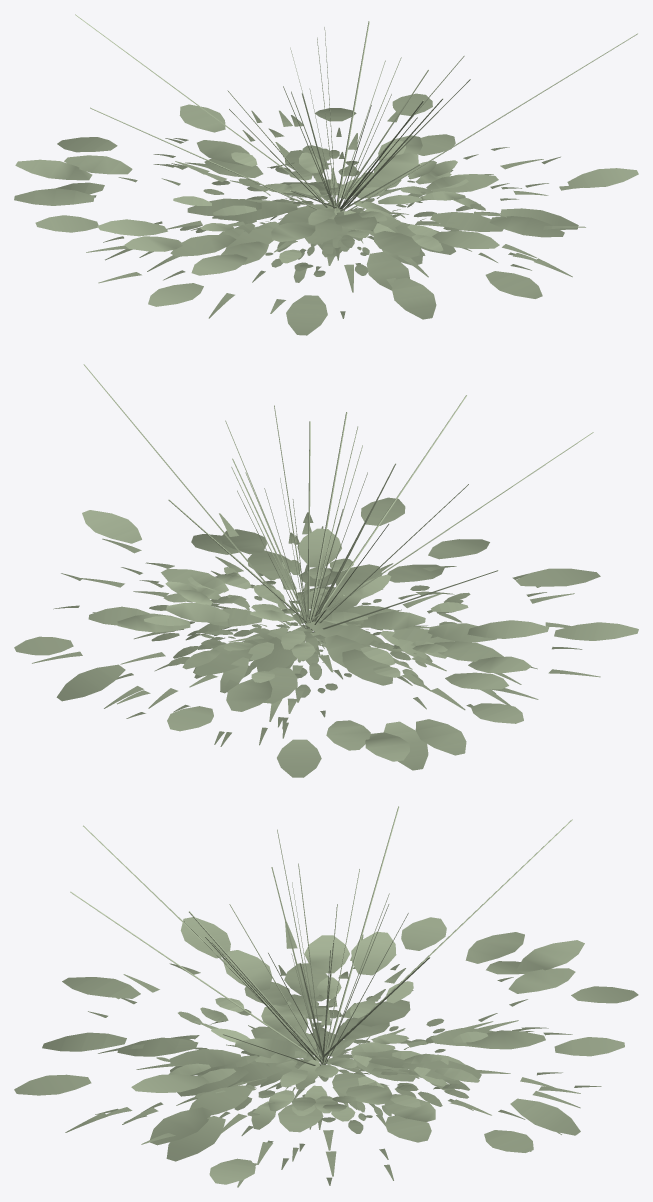
Rendered from herb_mat.glb.
The picture shows the model from 3 angles, top to bottom: view 1: azimuth 30°, elevation 25°; view 2: azimuth 150°, elevation 25°; view 3: azimuth 270°, elevation 25°; orthographic projection. The views are drawn at different scales.
Visible parts, largest first — view 1: v3_foliage, v4_foliage, v8_foliage, v6_foliage, v5_foliage, v2_foliage, v0_foliage, v1_foliage; view 2: v3_foliage, v4_foliage, v8_foliage, v6_foliage, v2_foliage, v5_foliage, v0_foliage, v1_foliage; view 3: v3_foliage, v4_foliage, v8_foliage, v6_foliage, v2_foliage, v5_foliage, v0_foliage.
Part boxes in pixels (left/top/right/bottom): v3_foliage: left=14, top=14, right=638, bottom=335; v4_foliage: left=173, top=55, right=485, bottom=263; v8_foliage: left=86, top=100, right=605, bottom=318; v6_foliage: left=90, top=33, right=637, bottom=318; v5_foliage: left=180, top=86, right=481, bottom=282; v2_foliage: left=211, top=57, right=470, bottom=275; v0_foliage: left=219, top=90, right=425, bottom=259; v1_foliage: left=260, top=27, right=414, bottom=250; v3_foliage: left=14, top=432, right=638, bottom=777; v4_foliage: left=144, top=420, right=468, bottom=693; v8_foliage: left=32, top=395, right=600, bottom=721; v6_foliage: left=53, top=364, right=582, bottom=746; v2_foliage: left=149, top=405, right=463, bottom=697; v5_foliage: left=168, top=445, right=470, bottom=692; v0_foliage: left=185, top=484, right=468, bottom=693; v1_foliage: left=214, top=472, right=367, bottom=662; v3_foliage: left=14, top=819, right=638, bottom=1184; v4_foliage: left=168, top=942, right=487, bottom=1129; v8_foliage: left=65, top=891, right=580, bottom=1187; v6_foliage: left=88, top=806, right=601, bottom=1185; v2_foliage: left=182, top=921, right=469, bottom=1133; v5_foliage: left=178, top=863, right=475, bottom=1116; v0_foliage: left=156, top=829, right=445, bottom=1120.
Bounding box in the file's own units: 3.33 × 1 × 3.23.
